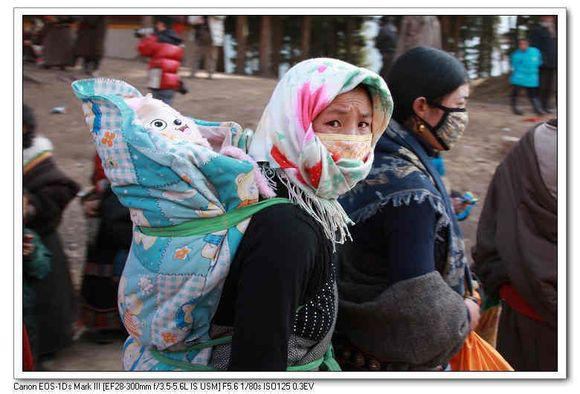OK: (306, 102, 382, 178), (415, 91, 477, 151)
